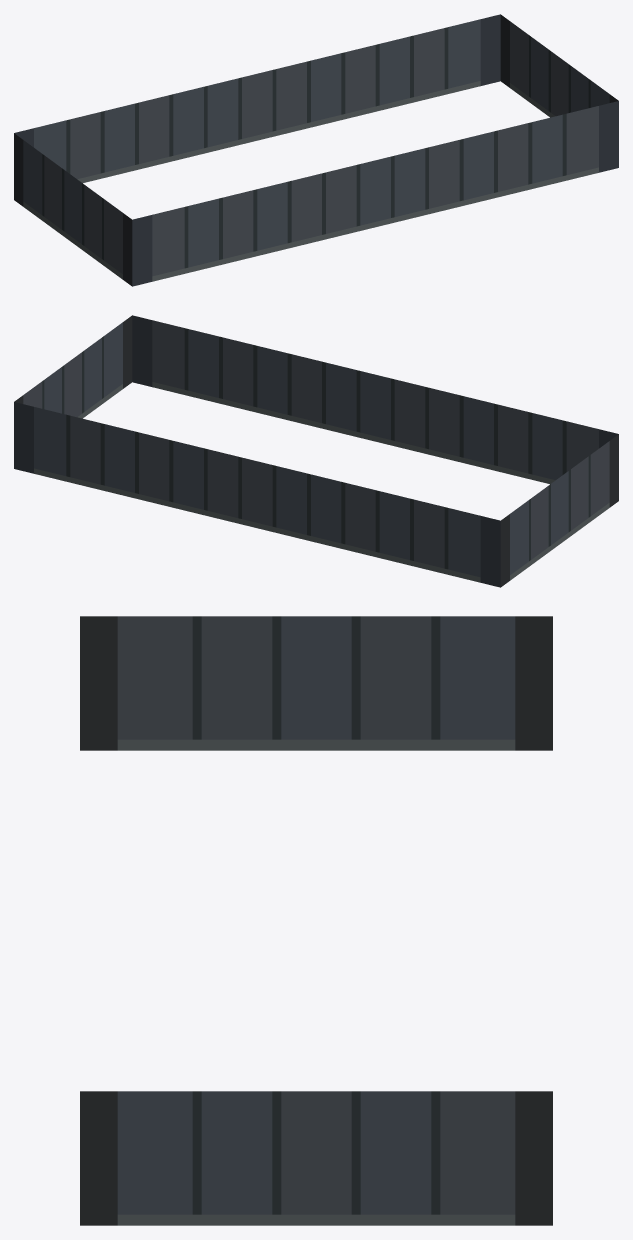
File: TB_CITY_Skysc_C_BodyC_Gray.FBX
3 renders of one model, top to bottom at view 1: azimuth 30°, elevation 25°; view 2: azimuth 150°, elevation 25°; view 3: azimuth 270°, elevation 25°, orthographic. The views are drawn at different scales.
Visible parts, largest first — view 1: TB_CITY_Skysc_C_BodyC_Gray; view 2: TB_CITY_Skysc_C_BodyC_Gray; view 3: TB_CITY_Skysc_C_BodyC_Gray.
Boxes of the visible parts, <box> form: TB_CITY_Skysc_C_BodyC_Gray: <box>14,14,618,286</box>; TB_CITY_Skysc_C_BodyC_Gray: <box>14,315,618,587</box>; TB_CITY_Skysc_C_BodyC_Gray: <box>80,616,552,1225</box>.
Bounding box in the file's own units: 38 × 5 × 16.
